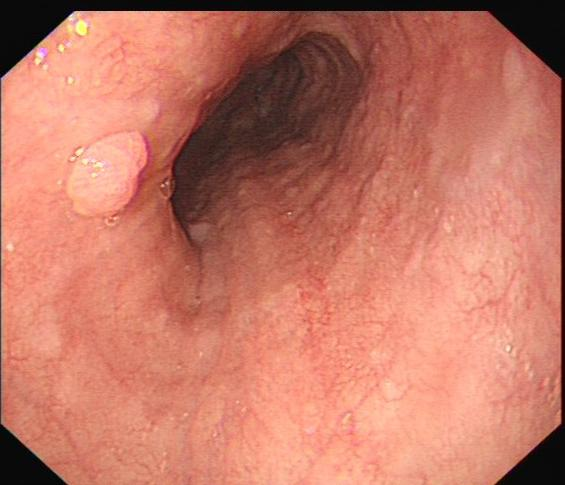Polyp: (64, 134, 145, 213)
